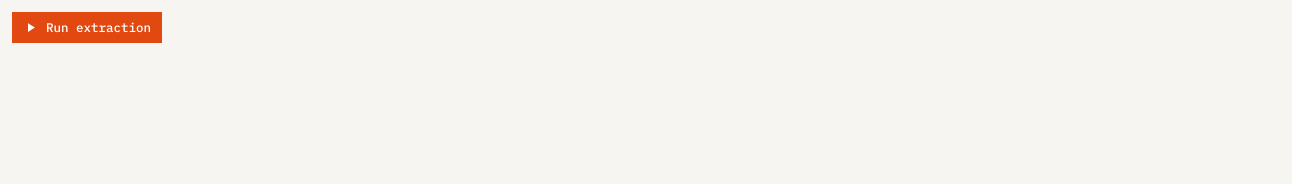
Test: the run, spread across one request per block › keeps going after a block fails, and reports every failure
The image size is (1292, 184).
Click the button "Run extraction" at point(87, 27), box [12,12,162,43]
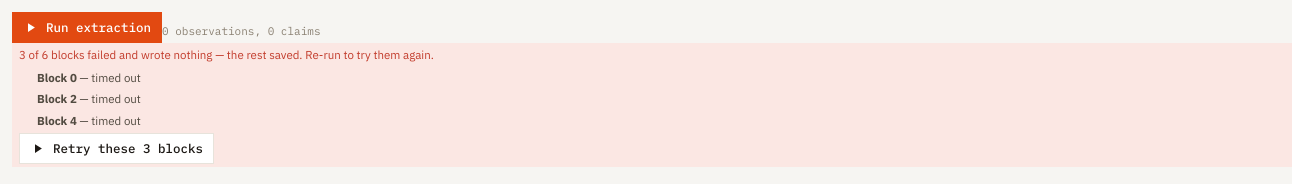
expect the text "3 of 6 blocks" is shown: met
expect the text "Block 0" is shown: met, box [37,70,77,85]
expect the text "Block 4" is shown: met, box [37,112,77,128]
